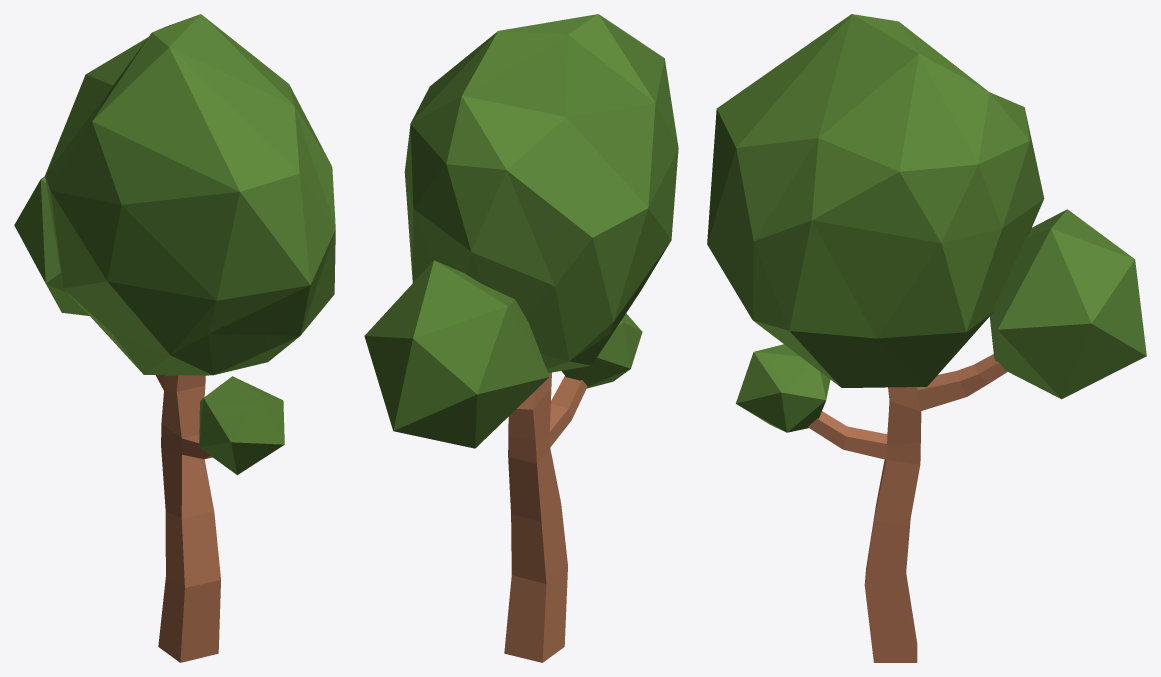
File: tree-2.glb
The picture shows the model from 3 angles, left to right: view 1: azimuth 30°, elevation 25°; view 2: azimuth 150°, elevation 25°; view 3: azimuth 270°, elevation 25°; orthographic projection.
Parts seen in each view (by area): view 1: Tree 2_0; view 2: Tree 2_0; view 3: Tree 2_0.
Part boxes in pixels (x1,y1,x2,y2): Tree 2_0: (14,14,335,662); Tree 2_0: (364,14,678,662); Tree 2_0: (707,14,1146,662).
Bounding box in the file's own units: 12.13 × 31.42 × 20.2.
1 material, 1 textured.
